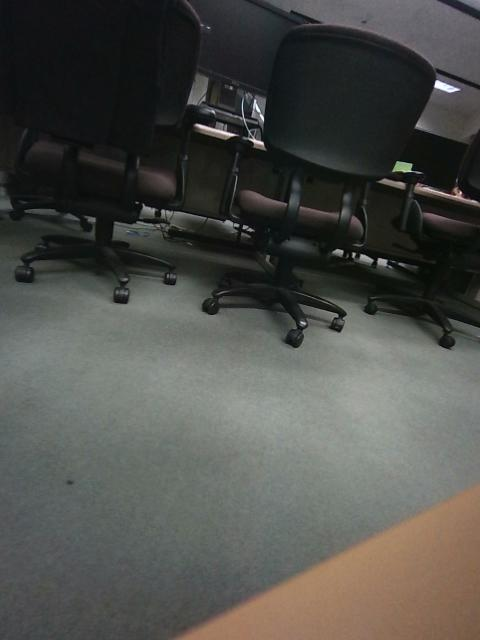block: (34, 287, 85, 370)
